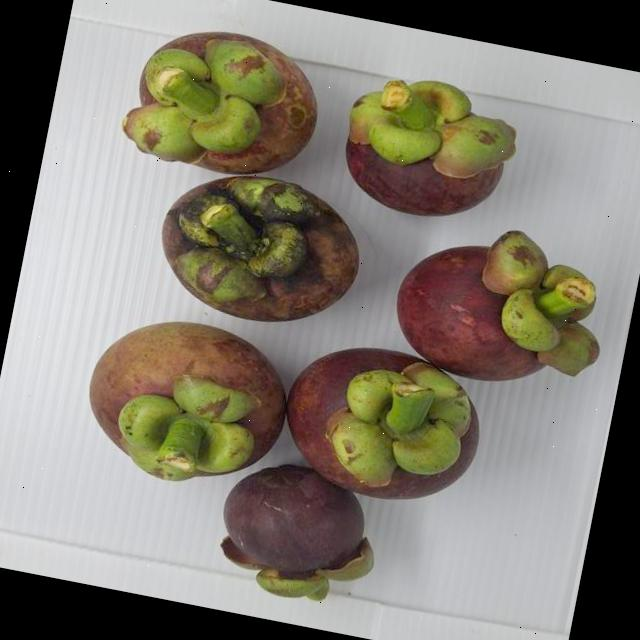mangosteen: (32, 266, 298, 510), (226, 320, 529, 520), (363, 198, 615, 410), (126, 134, 360, 362), (76, 0, 326, 193), (314, 57, 550, 251), (192, 440, 386, 628)
